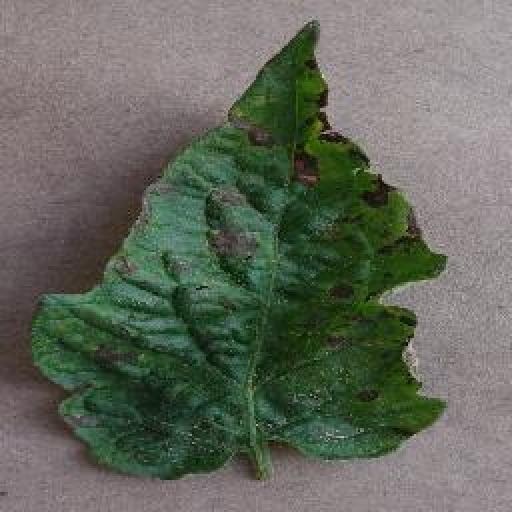Early Blight: (31, 18, 451, 478)
